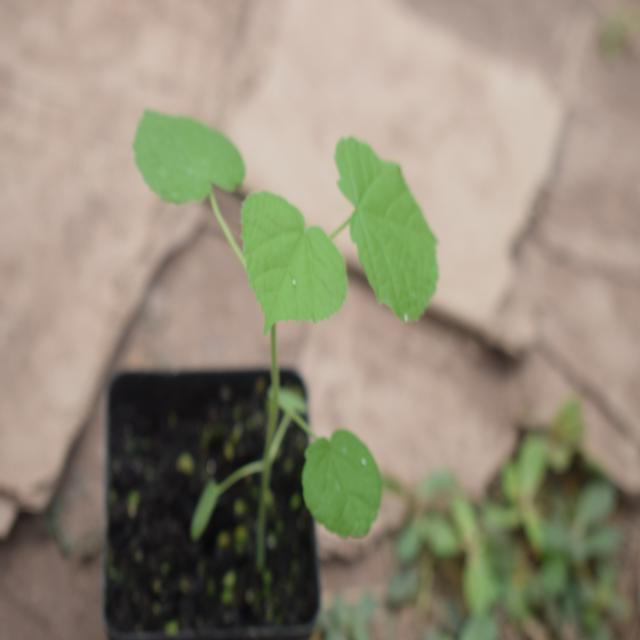abutilon theophrasti: (117, 100, 439, 516)
